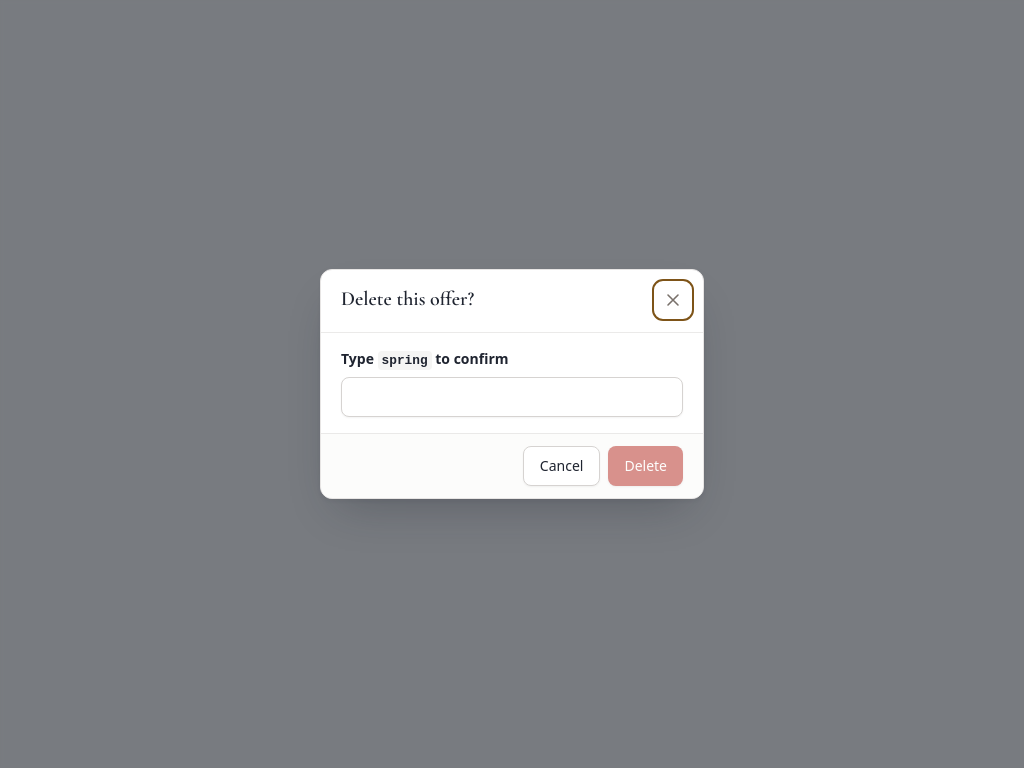
Test case: ConfirmDialog › requires the confirmation text and keeps the dialog open with the error on failure
The width and height of the screenshot is (1024, 768).
Expected: the button "Delete" is disabled, [608,446,683,486]
Type "spring" into the field at (512, 397), box [341,377,683,417]
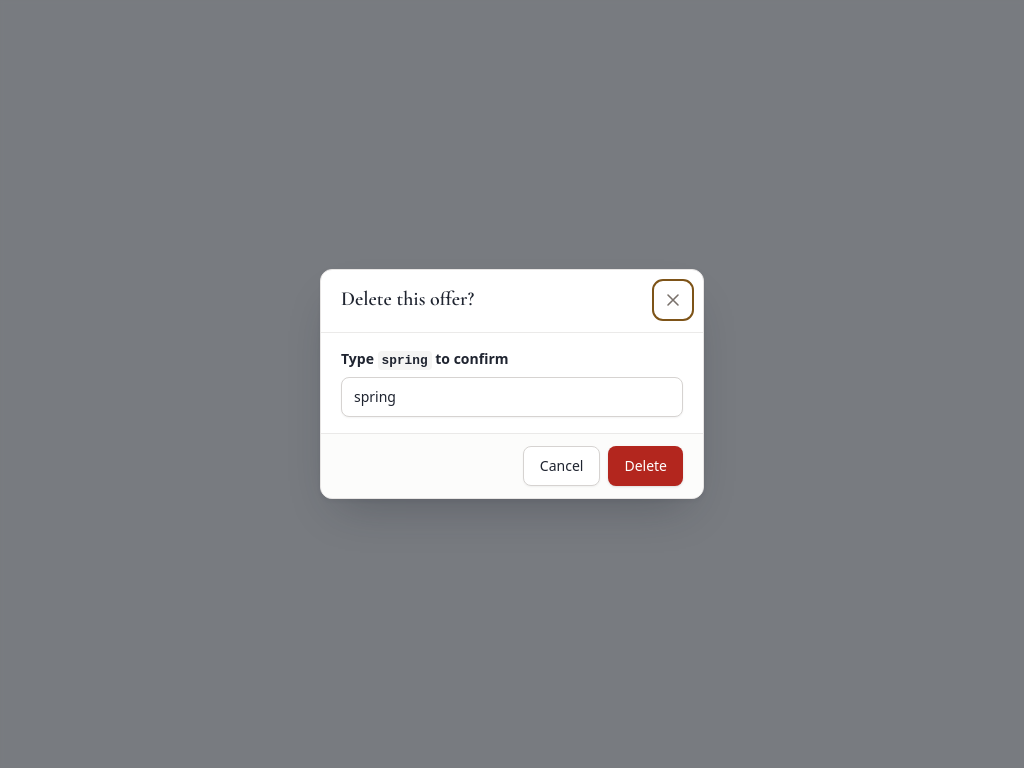
Expected: the button "Delete" is enabled
Click the button "Delete" at (646, 466), box [608,446,683,486]
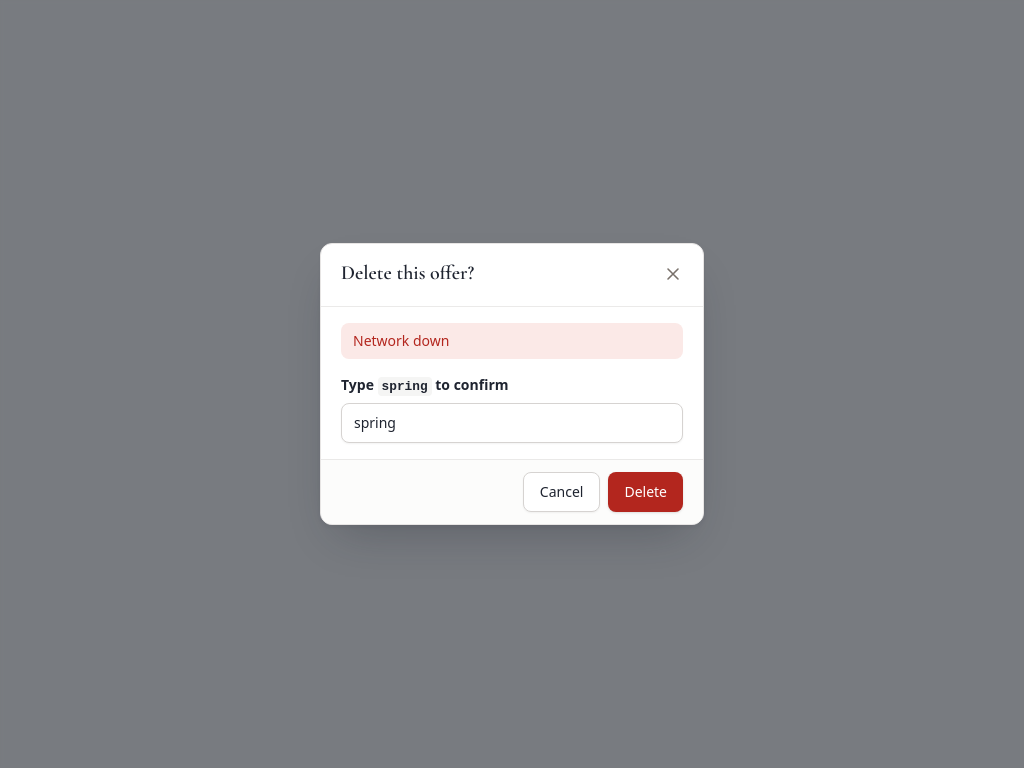
Expected: the message reads "Network down", [353,331,449,350]
